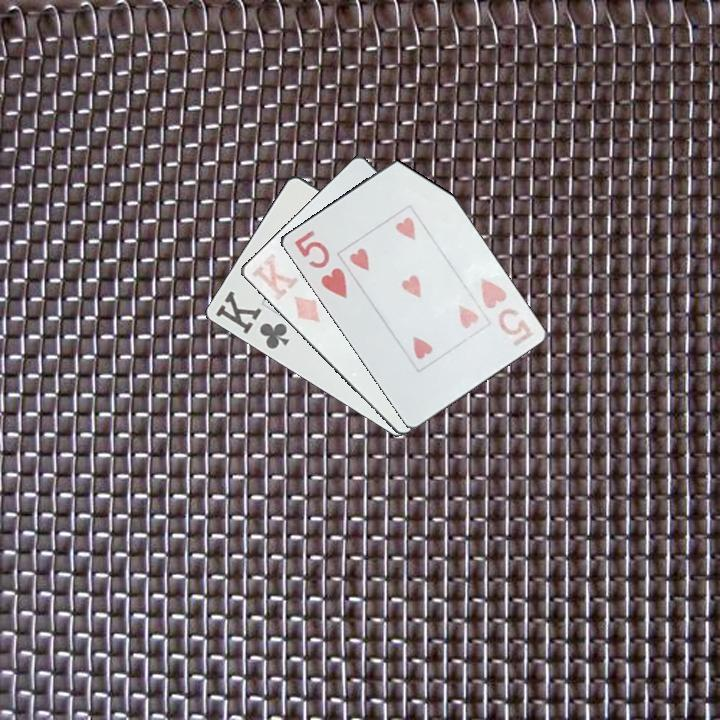5h: (290, 226, 350, 302), (476, 273, 536, 349)
Kc: (212, 287, 292, 352)
Kd: (248, 250, 323, 325)
